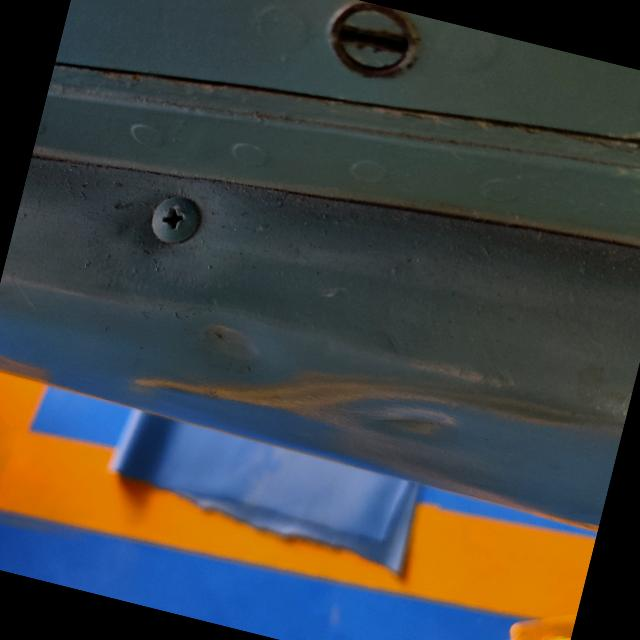dent: (110, 274, 631, 534)
